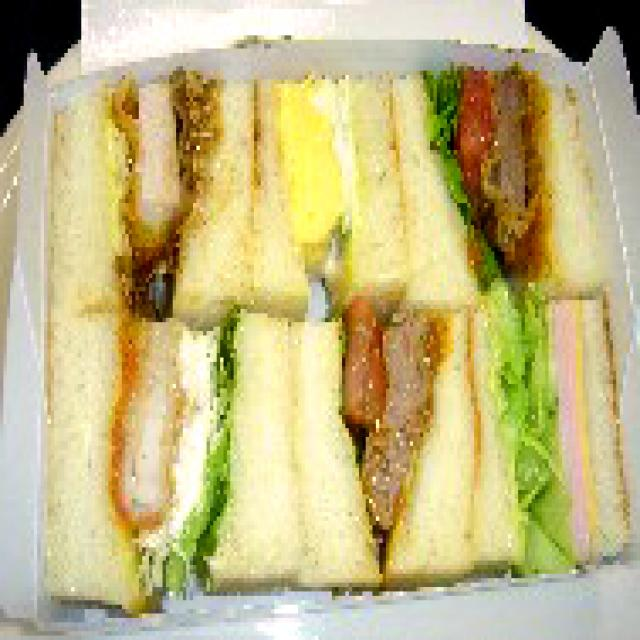三明治: (30, 57, 640, 605)
